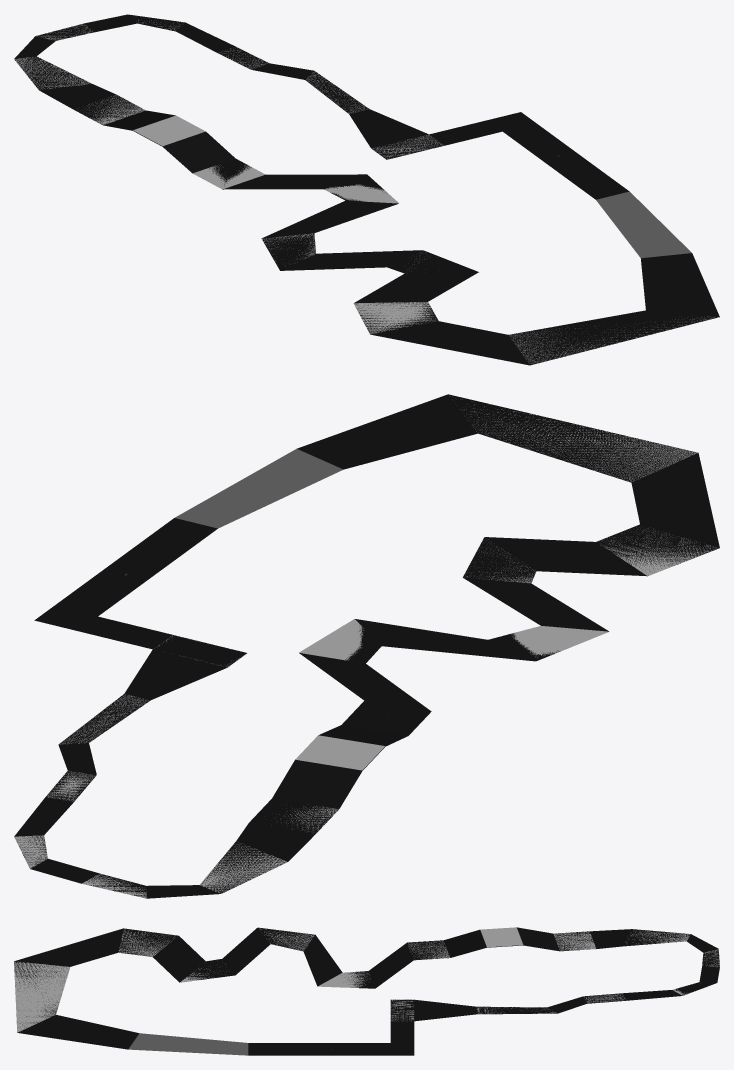
File: Racing.fbx
The picture shows the model from 3 angles, top to bottom: view 1: azimuth 30°, elevation 25°; view 2: azimuth 150°, elevation 25°; view 3: azimuth 270°, elevation 25°; orthographic projection. The views are drawn at different scales.
Parts seen in each view (by area): view 1: Cube; view 2: Cube; view 3: Cube.
Boxes of the visible parts, box(x1,y1,x2,y2) form: Cube: box(14, 14, 719, 365); Cube: box(14, 394, 719, 898); Cube: box(14, 927, 719, 1055).
Bounding box in the file's own units: 69355 × 2359 × 161522.
